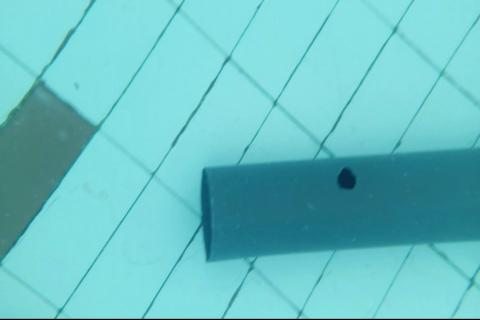kebocoran: (336, 164, 357, 191)
